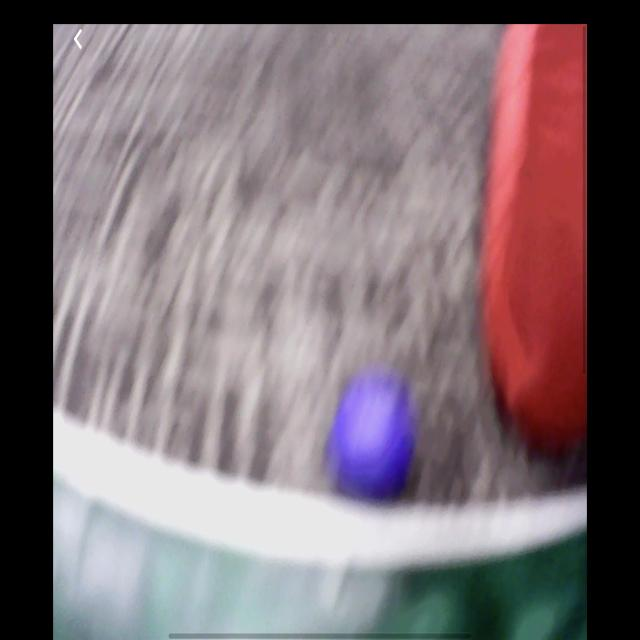ball: (332, 375, 417, 496)
